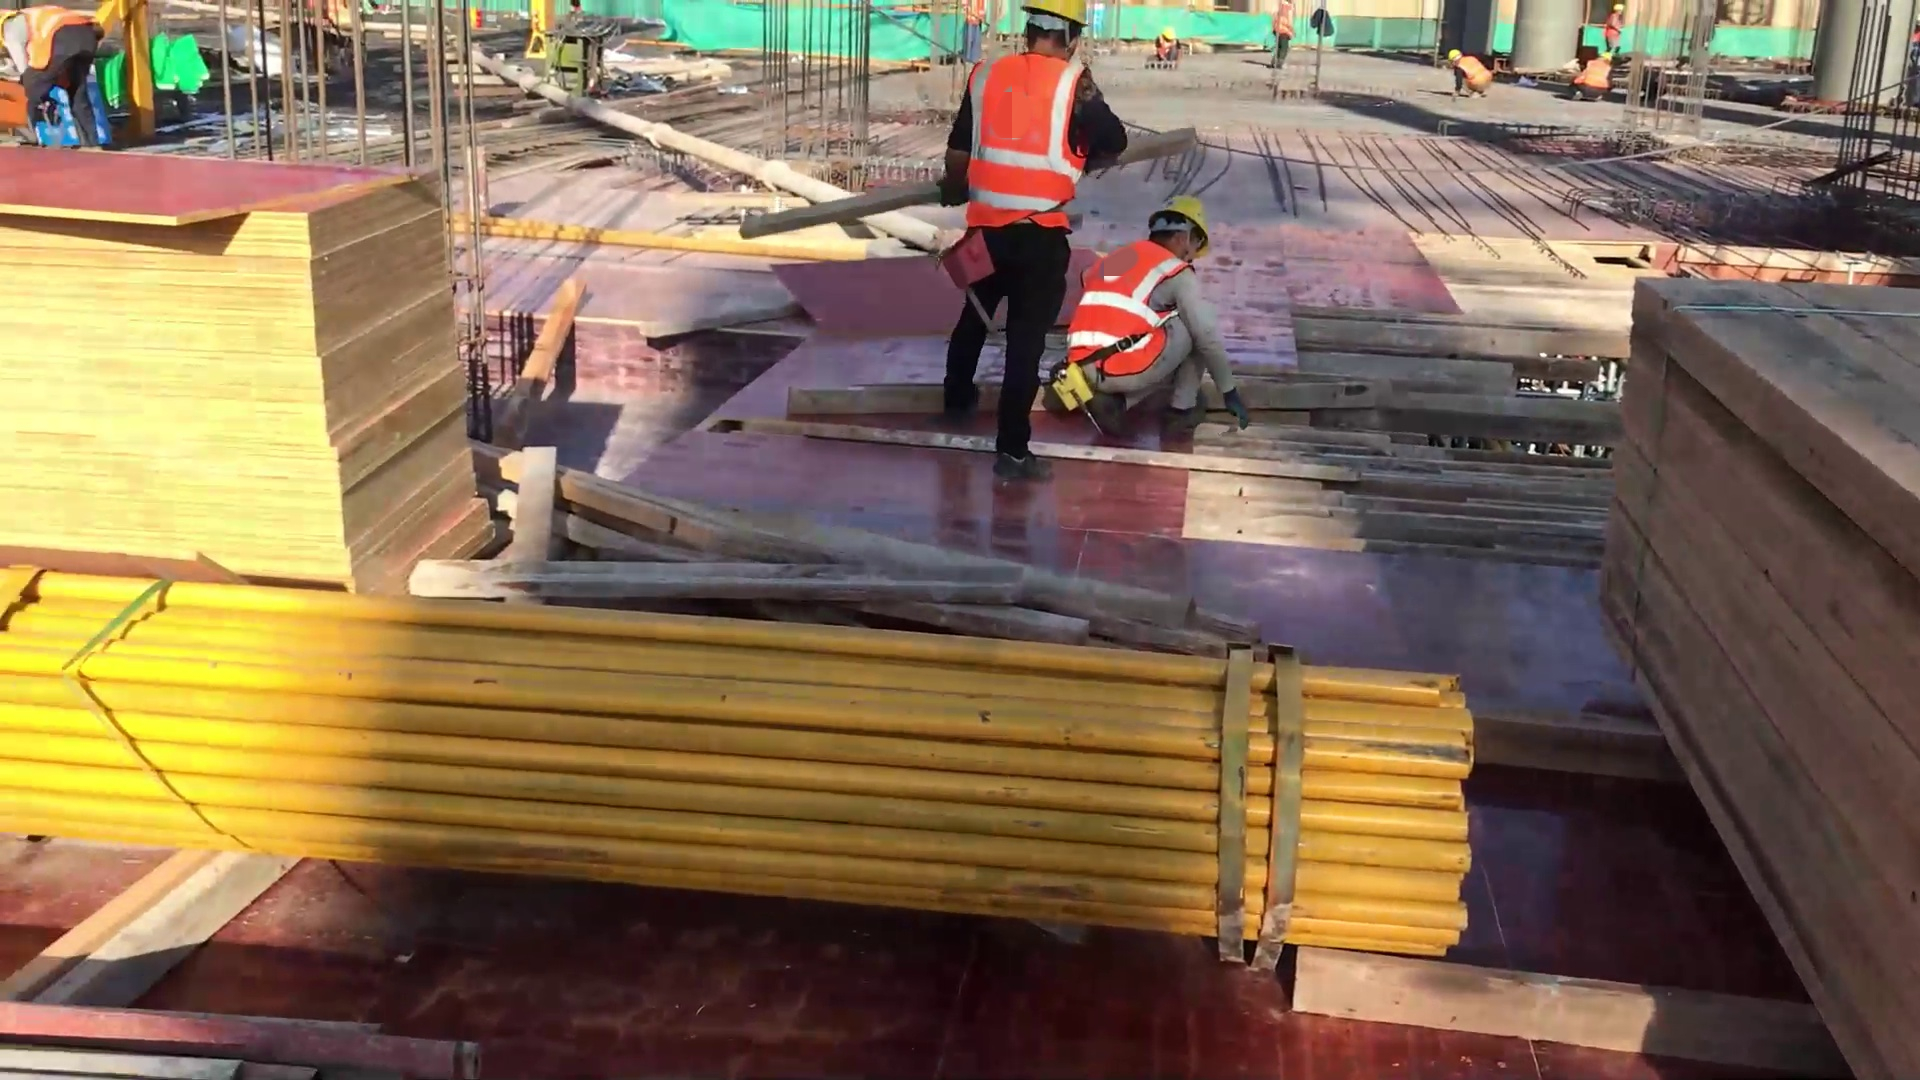board: (1, 166, 492, 564)
helmet: (1151, 181, 1242, 261), (1163, 18, 1192, 46)
person: (927, 6, 1106, 488), (1056, 192, 1231, 456), (1436, 46, 1494, 110), (1573, 45, 1616, 101), (1266, 1, 1298, 61), (1600, 1, 1633, 41), (1150, 23, 1182, 61)
vest: (956, 51, 1092, 233), (1071, 243, 1194, 373), (1456, 54, 1497, 92), (1275, 1, 1297, 43), (1151, 31, 1174, 69)
wood: (1575, 238, 1908, 1080)
